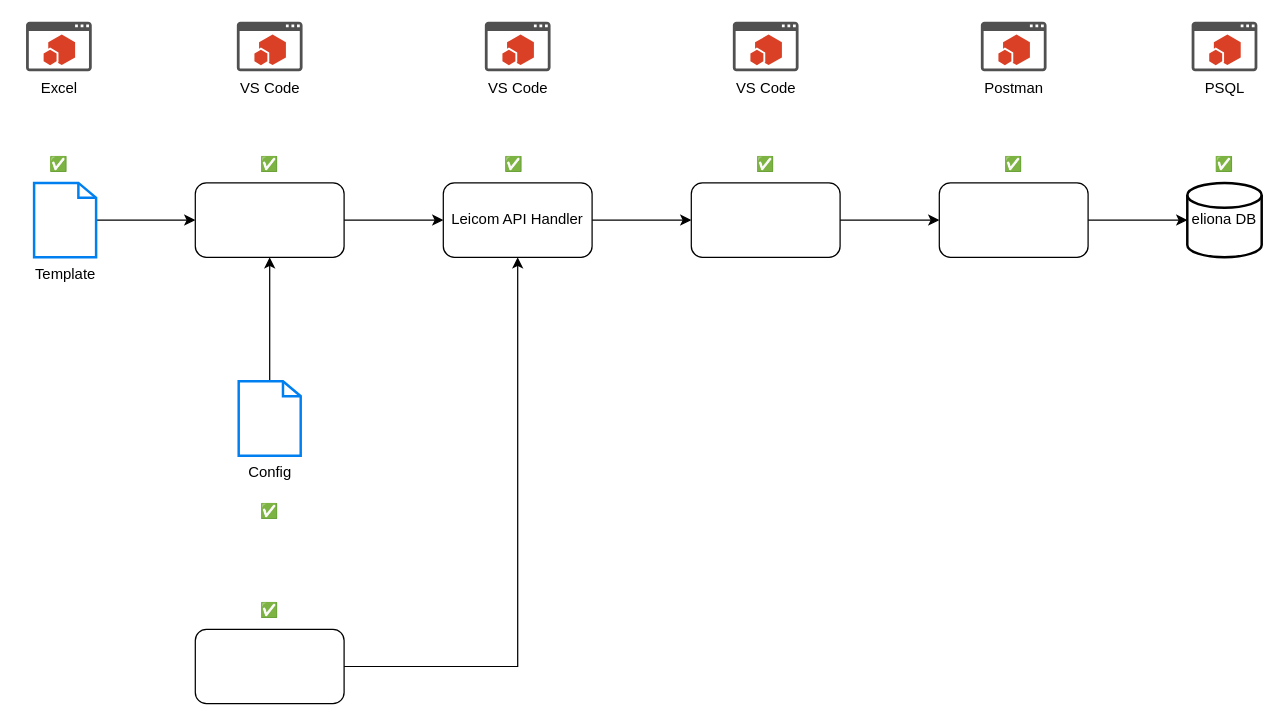
Image size: 1283x725. Some labels were removed from this diagram. Each missing label, with the centre of its shape:
API V2: the point at 1013,219
python API Modul: the point at 765,219
Report APP: the point at 269,219
Test.py: the point at 269,666
